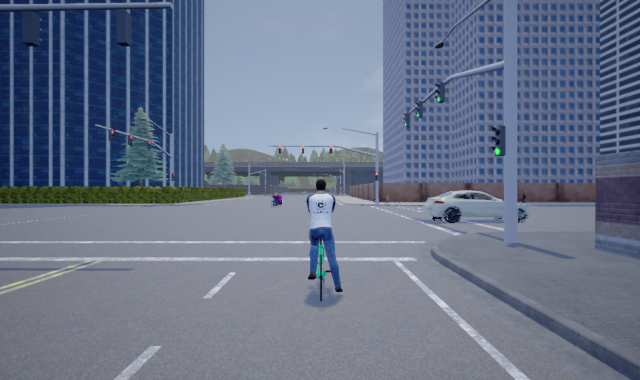bike: (305, 179, 342, 308)
motobike: (271, 190, 283, 208)
pedestrian: (518, 186, 528, 203)
traffic_light: (491, 124, 506, 157), (434, 80, 446, 105), (414, 100, 424, 118), (403, 111, 410, 128), (146, 139, 152, 151), (128, 134, 133, 147), (109, 129, 114, 141), (374, 172, 379, 181), (301, 144, 305, 155), (172, 172, 176, 182), (277, 145, 281, 154), (329, 144, 332, 155)
vehicle: (425, 189, 526, 222)
